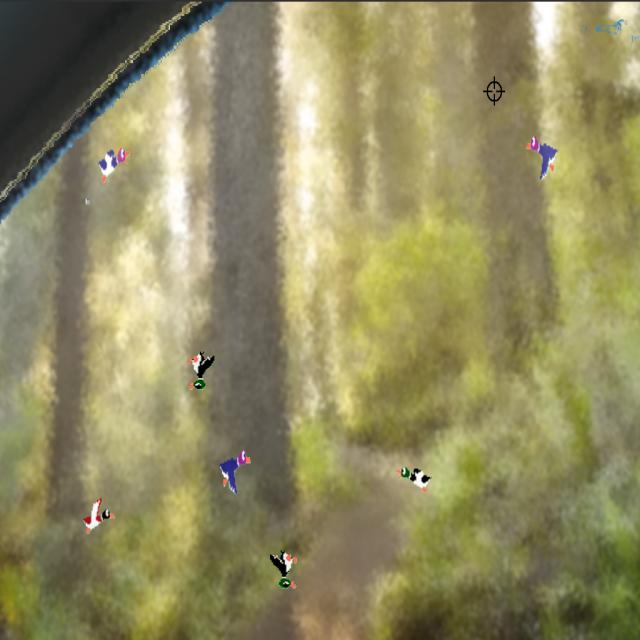duck: (521, 126, 569, 186), (218, 444, 257, 498), (74, 493, 117, 540), (92, 140, 133, 188), (392, 459, 438, 498)
falling_duck: (262, 536, 304, 597), (187, 344, 214, 402)
